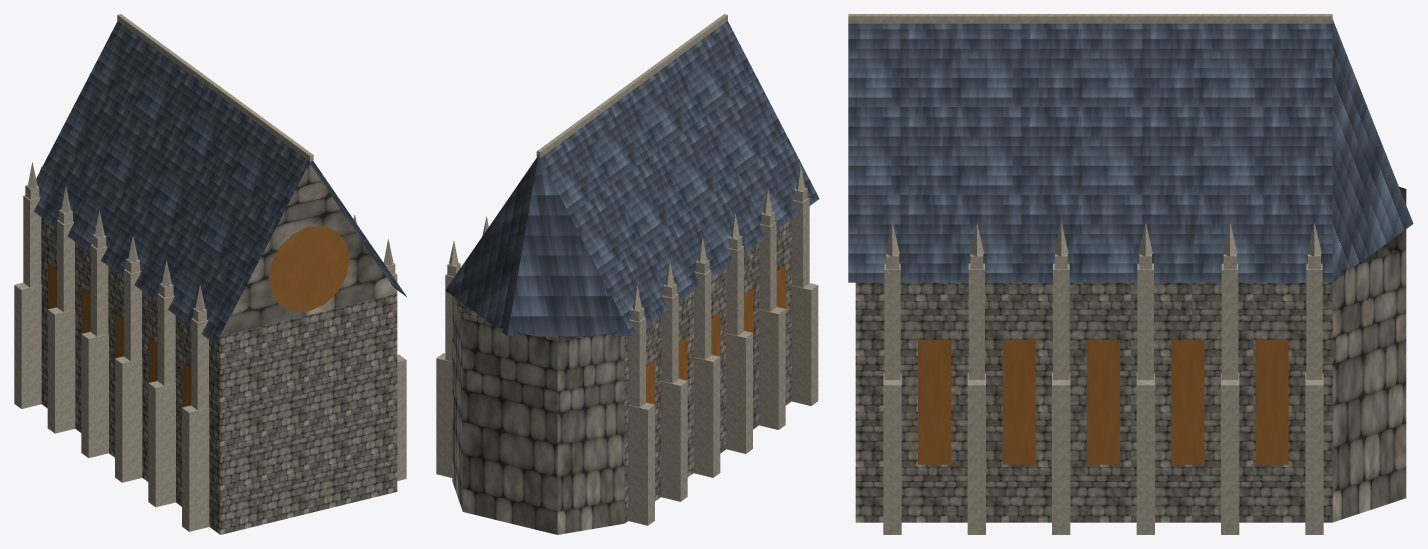
Rendered from Church_Nave_1.gltf.
3 views of the same model, side by side, from view 1: azimuth 30°, elevation 25°; view 2: azimuth 150°, elevation 25°; view 3: azimuth 270°, elevation 25° (orthographic). The views are drawn at different scales.
Parts seen in each view (by area): view 1: Church_Nave_1; view 2: Church_Nave_1; view 3: Church_Nave_1.
Boxes of the visible parts, box(x1,y1,x2,y2) form: Church_Nave_1: box(14, 14, 407, 534); Church_Nave_1: box(436, 14, 819, 534); Church_Nave_1: box(848, 14, 1413, 534).
Bounding box in the file's own units: 17.2 × 27.25 × 30.8.
4 materials, 4 textured.
